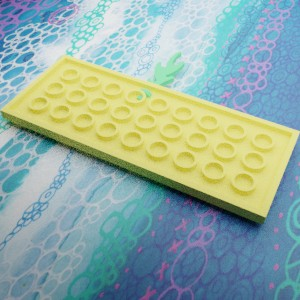lego: (0, 54, 300, 224), (135, 51, 184, 106)
